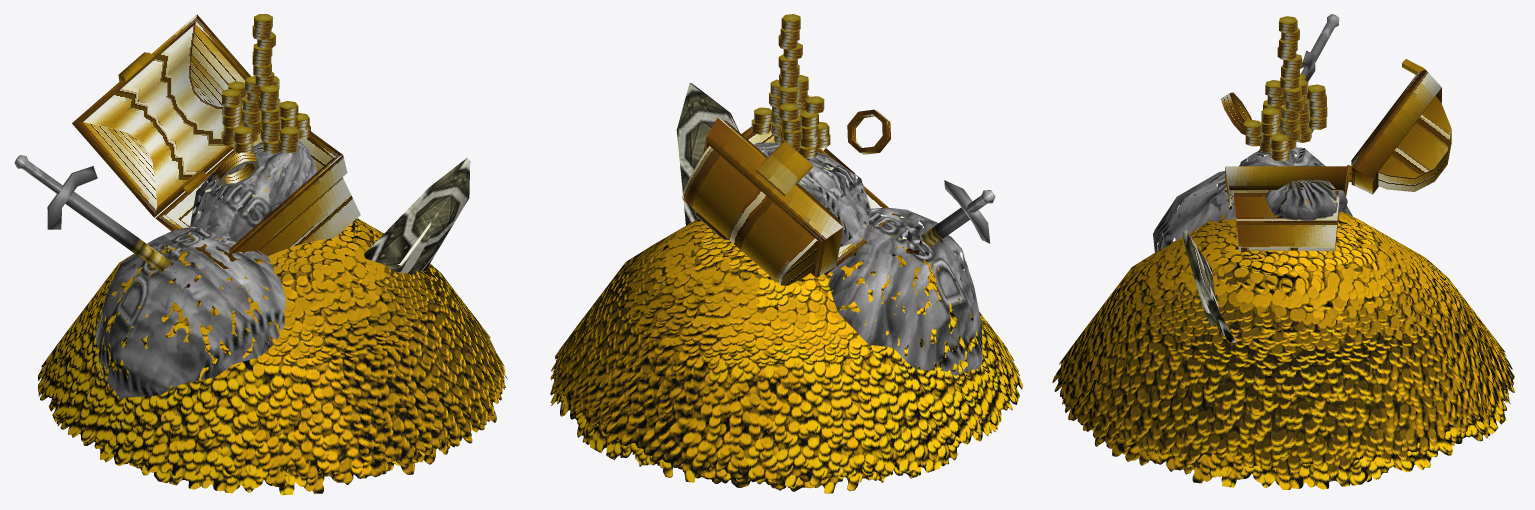
File: INST_SM_TUMBLEA_IDLE.obj
3 renders of one model, left to right at view 1: azimuth 30°, elevation 25°; view 2: azimuth 150°, elevation 25°; view 3: azimuth 270°, elevation 25°, orthographic. The views are drawn at different scales.
Visible parts, largest first — view 1: umnblinb_pile01, Object04, Object07, Object06, Object05, Object02, Object16, Object03, Object08; view 2: umnblinb_pile01, Object04, Object07, Object16, Object05, Object02, Object03, Object06, Object08; view 3: umnblinb_pile01, Object07, Object06, Object16, Object05, Object04, Object02, Object03, Object08.
Part boxes in pixels (bbox=[...]): umnblinb_pile01: bbox=[38, 218, 507, 495]; Object04: bbox=[95, 226, 285, 399]; Object07: bbox=[72, 14, 261, 217]; Object06: bbox=[155, 131, 360, 269]; Object05: bbox=[186, 140, 316, 268]; Object02: bbox=[364, 157, 470, 274]; Object16: bbox=[221, 76, 310, 235]; Object03: bbox=[14, 155, 197, 288]; Object08: bbox=[215, 152, 259, 186]; umnblinb_pile01: bbox=[550, 218, 1023, 493]; Object04: bbox=[825, 208, 982, 375]; Object07: bbox=[682, 117, 843, 285]; Object16: bbox=[751, 79, 854, 173]; Object05: bbox=[753, 142, 873, 261]; Object02: bbox=[676, 83, 739, 225]; Object03: bbox=[906, 180, 995, 255]; Object06: bbox=[695, 123, 900, 275]; Object08: bbox=[847, 109, 890, 154]; umnblinb_pile01: bbox=[1052, 211, 1514, 489]; Object07: bbox=[1347, 59, 1451, 194]; Object06: bbox=[1225, 166, 1348, 251]; Object16: bbox=[1229, 74, 1327, 197]; Object05: bbox=[1239, 147, 1347, 220]; Object04: bbox=[1153, 171, 1352, 252]; Object02: bbox=[1182, 230, 1236, 342]; Object03: bbox=[1229, 14, 1339, 209]; Object08: bbox=[1221, 92, 1251, 133].
Bounding box in the file's own units: 234 × 193 × 218.
